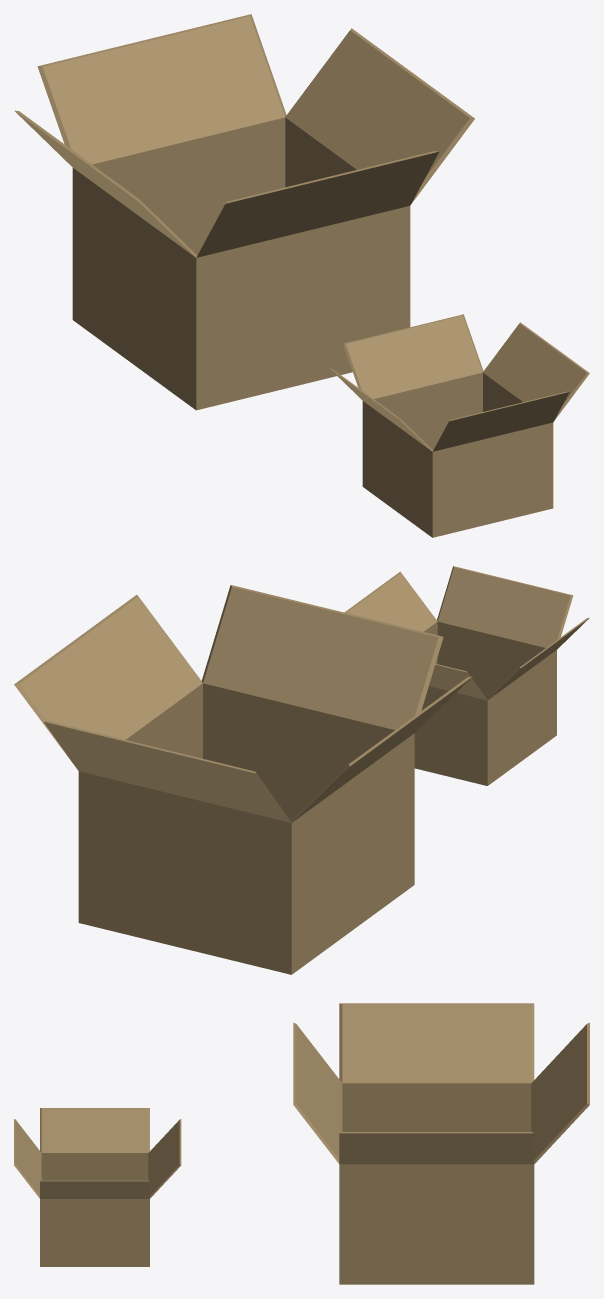
Rendered from Package.fbx.
The picture shows the model from 3 angles, top to bottom: view 1: azimuth 30°, elevation 25°; view 2: azimuth 150°, elevation 25°; view 3: azimuth 270°, elevation 25°; orthographic projection. The views are drawn at different scales.
Parts seen in each view (by area): view 1: Package_big, Package_small; view 2: Package_big, Package_small; view 3: Package_big, Package_small.
Boxes of the visible parts, left/top/right/bottom form: Package_big: left=14, top=14, right=474, bottom=410; Package_small: left=330, top=314, right=589, bottom=537; Package_big: left=14, top=585, right=472, bottom=974; Package_small: left=344, top=566, right=589, bottom=785; Package_big: left=293, top=1003, right=589, bottom=1284; Package_small: left=14, top=1108, right=181, bottom=1266.
Bounding box in the file's own units: 124 × 80.19 × 233.
